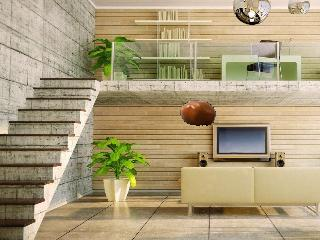potato: (177, 96, 220, 129)
